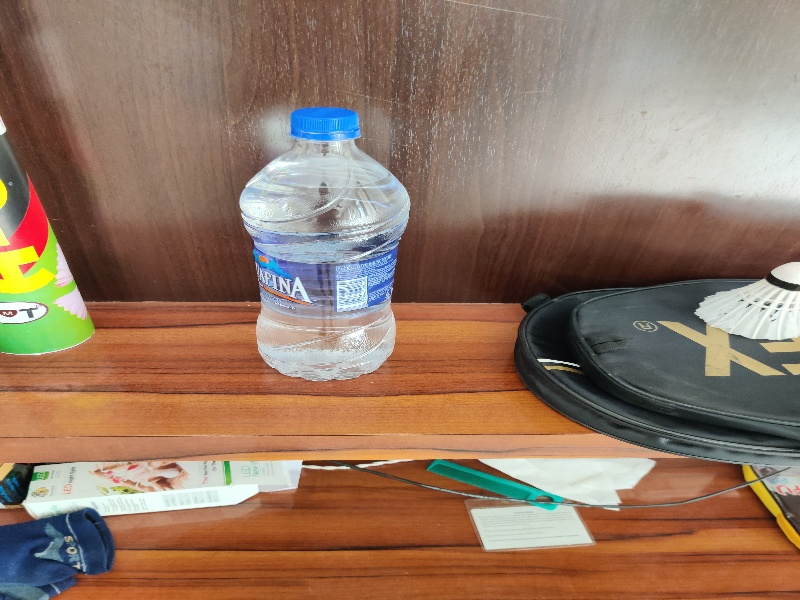bottle: (222, 105, 412, 384)
